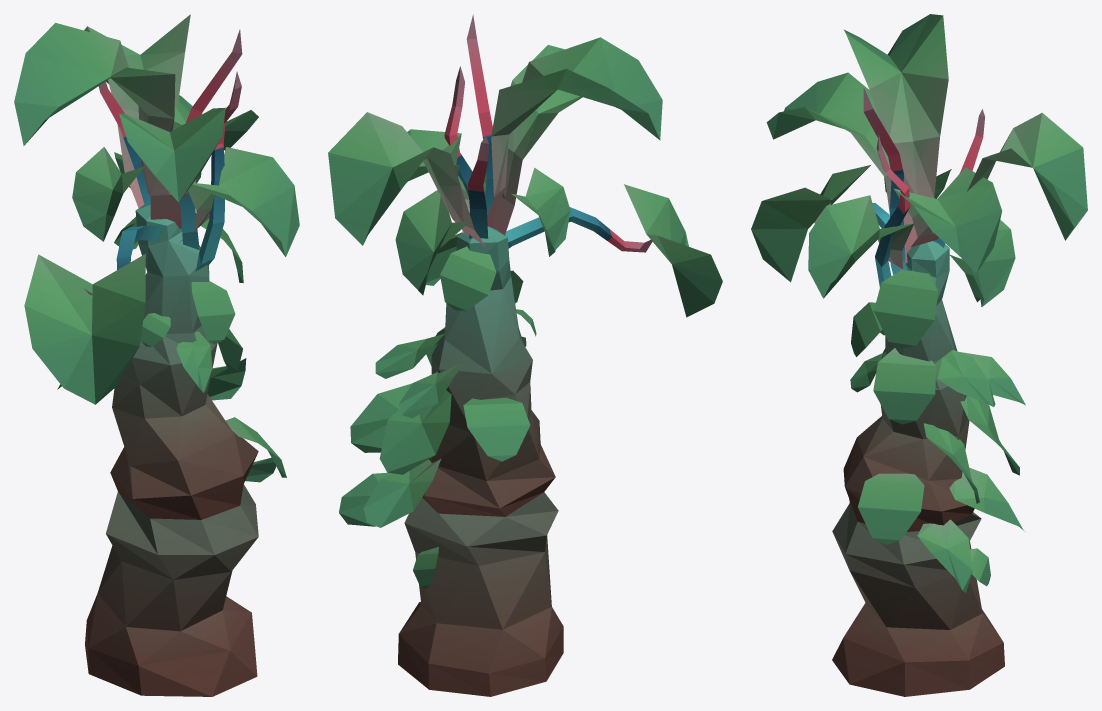
File: plant_XL01.FBX
The picture shows the model from 3 angles, left to right: view 1: azimuth 30°, elevation 25°; view 2: azimuth 150°, elevation 25°; view 3: azimuth 270°, elevation 25°; orthographic projection. The views are drawn at different scales.
Visible parts, largest first — view 1: Plant_XL01; view 2: Plant_XL01; view 3: Plant_XL01.
Boxes of the visible parts, bbox=[...] form: Plant_XL01: bbox=[14, 14, 299, 696]; Plant_XL01: bbox=[328, 14, 722, 696]; Plant_XL01: bbox=[751, 14, 1087, 696].
Bounding box in the file's own units: 147 × 284 × 144.
Materials: 1 (1 with a texture image).
